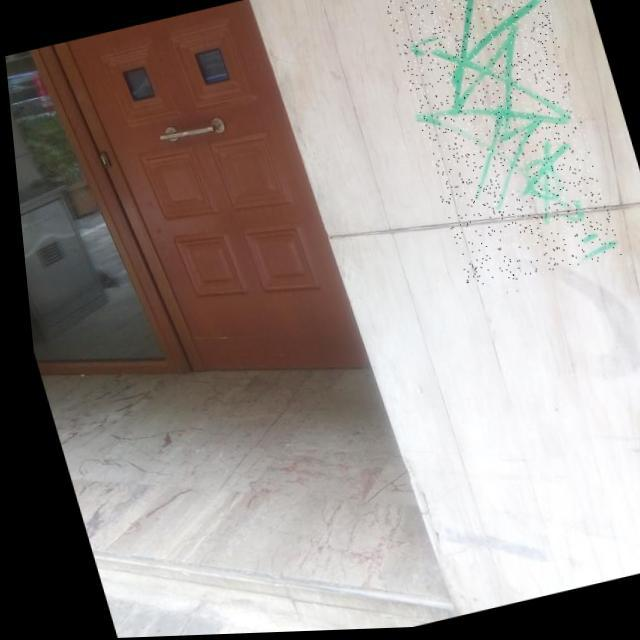-: (376, 0, 618, 297)
